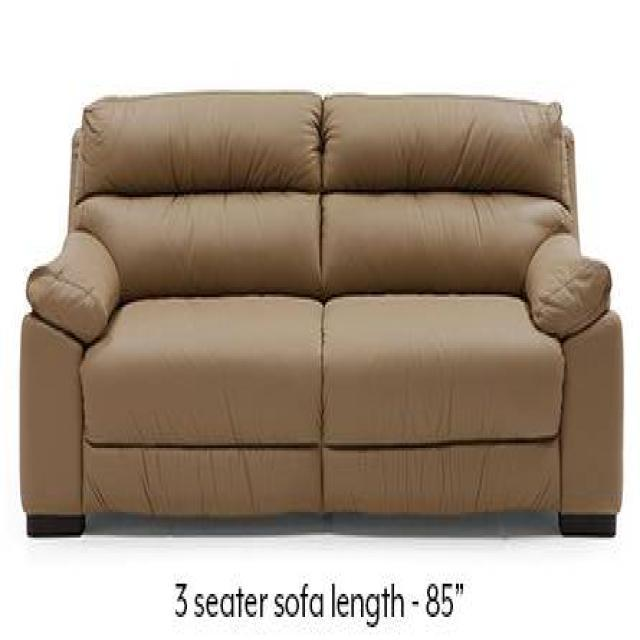sofa: (18, 87, 624, 538)
